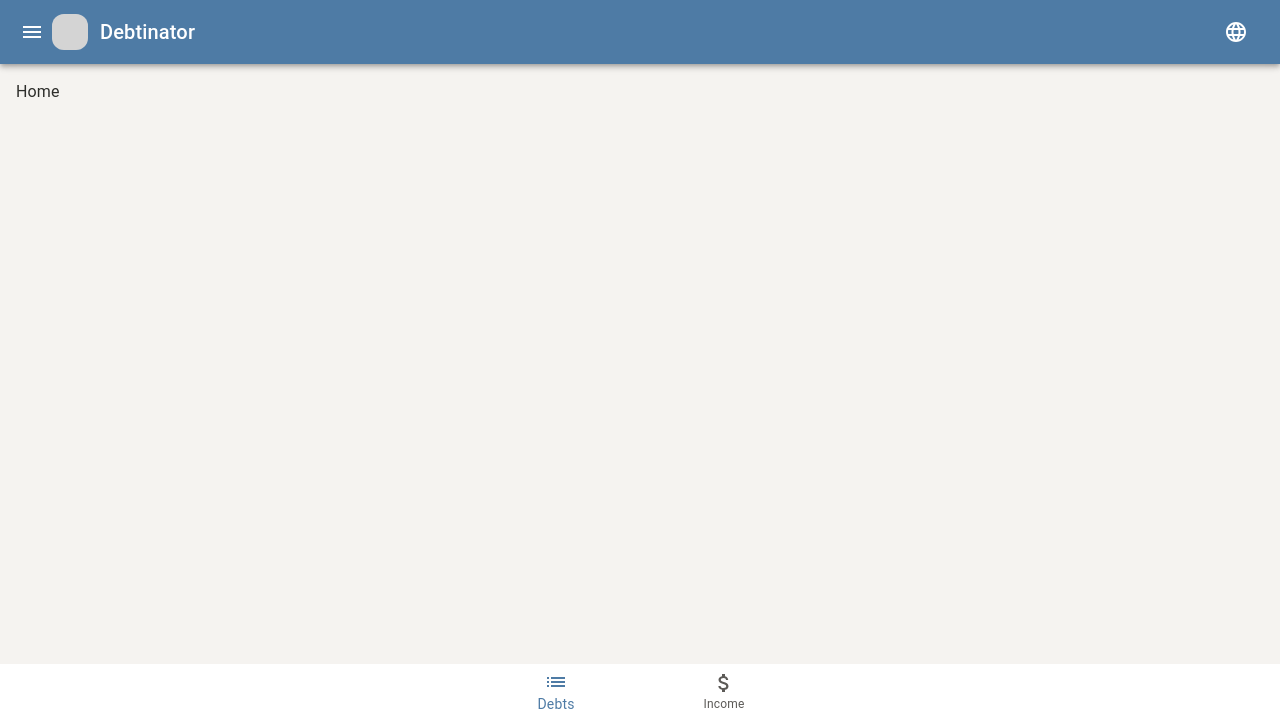
Scenario: Layout › Language menu › opens language menu and shows English and Español
Click the button with test id "language-menu-button".
click(1236, 32)  # box [1216,12,1256,52]
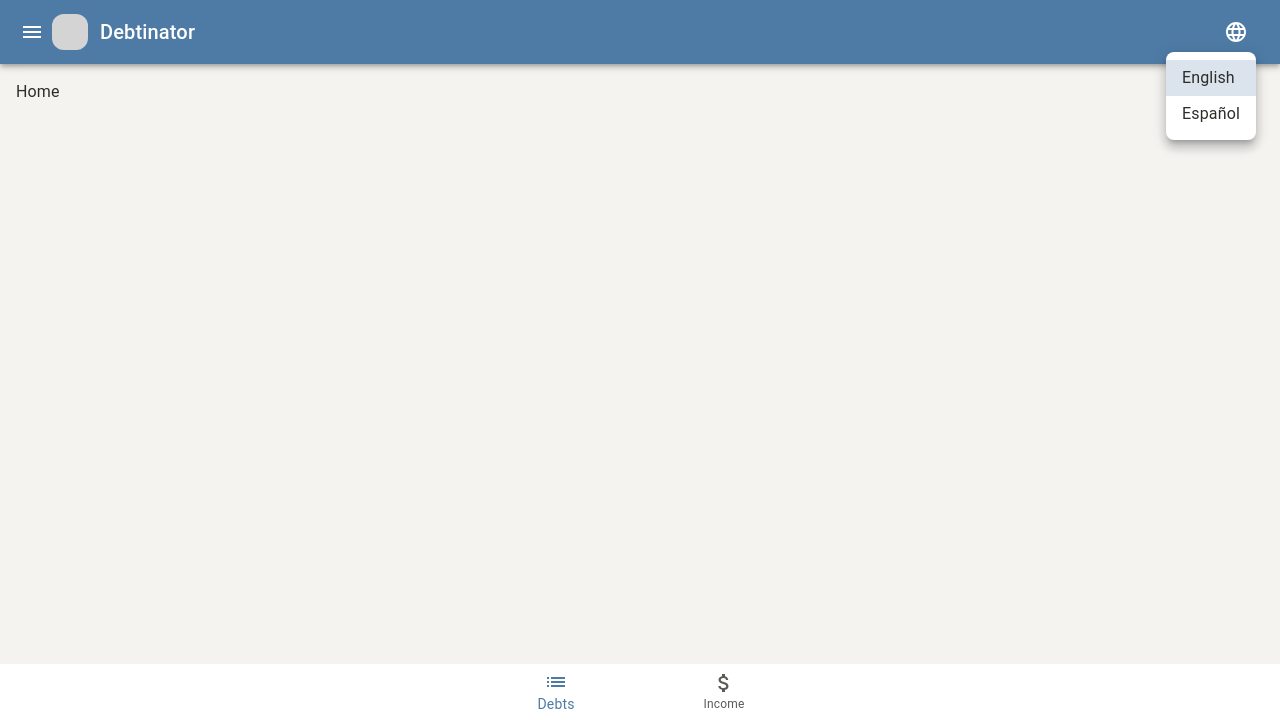
Now the menu item "English" is shown, box [1166,60,1256,96]
Now the menu item "Español" is shown, box [1182,104,1240,123]
